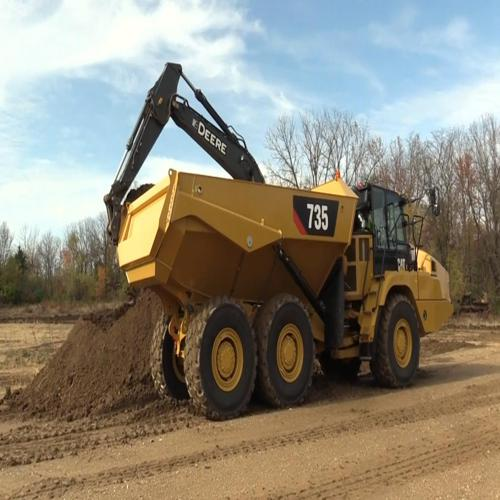con_eq: (97, 57, 458, 411)
